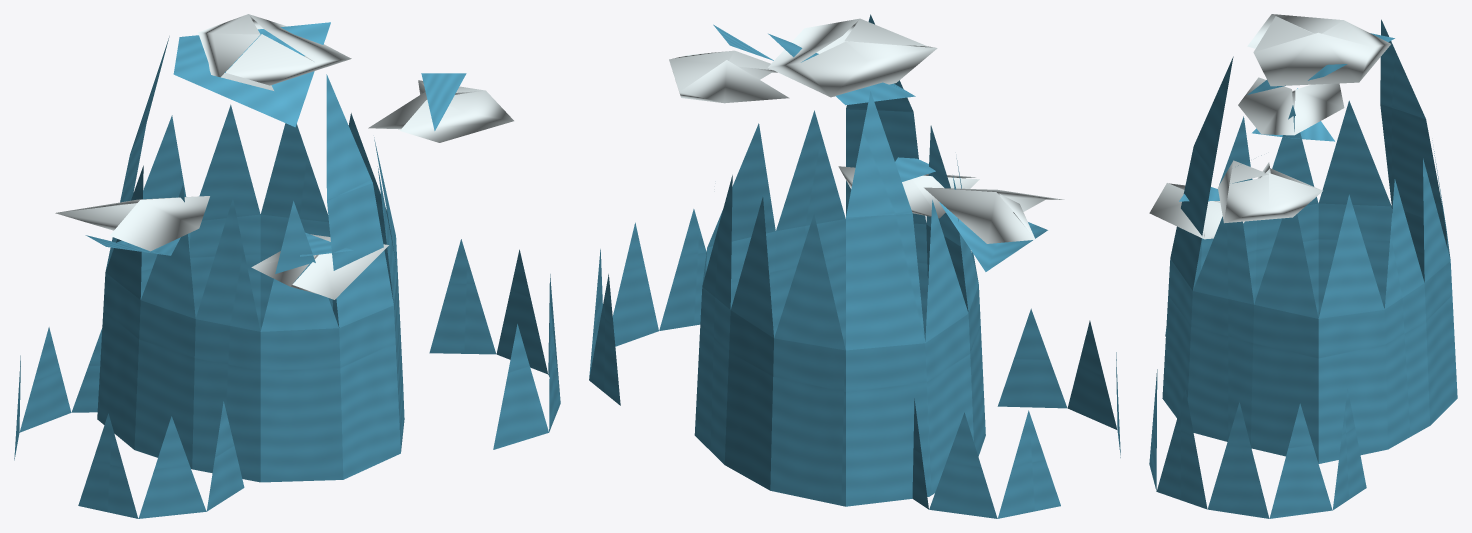
The model's file is glacier.glb.
3 views of the same model, side by side, from view 1: azimuth 30°, elevation 25°; view 2: azimuth 150°, elevation 25°; view 3: azimuth 270°, elevation 25° (orthographic). The views are drawn at different scales.
Visible parts, largest first — view 1: Surface GlacierIce, Surface SnowCaps; view 2: Surface GlacierIce, Surface SnowCaps; view 3: Surface GlacierIce, Surface SnowCaps.
Boxes of the visible parts, <box> form: Surface GlacierIce: <box>14,22,560,518</box>; Surface SnowCaps: <box>55,14,513,299</box>; Surface GlacierIce: <box>589,14,1120,518</box>; Surface SnowCaps: <box>669,18,1064,243</box>; Surface GlacierIce: <box>1149,19,1457,518</box>; Surface SnowCaps: <box>1149,14,1390,239</box>.
Bounding box in the file's own units: 6.52 × 4.95 × 3.77.
2 materials, 1 textured.
